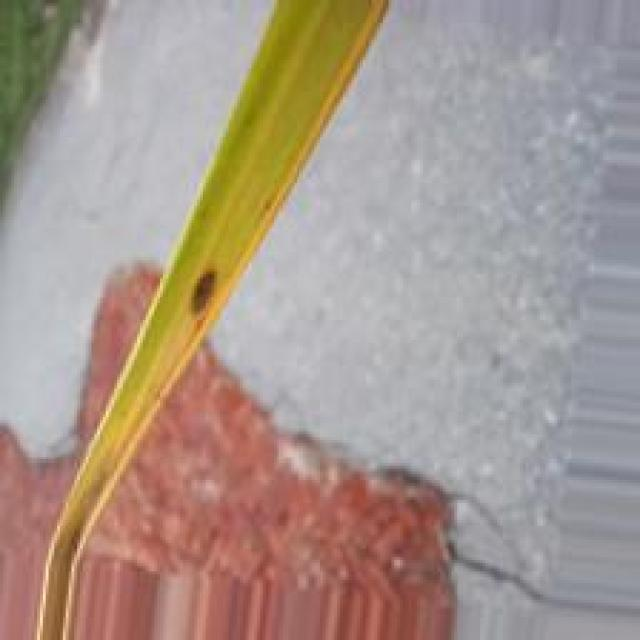Brown_Spot: (181, 266, 224, 322)
